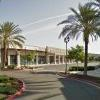Palm tree: (56, 3, 99, 63)
